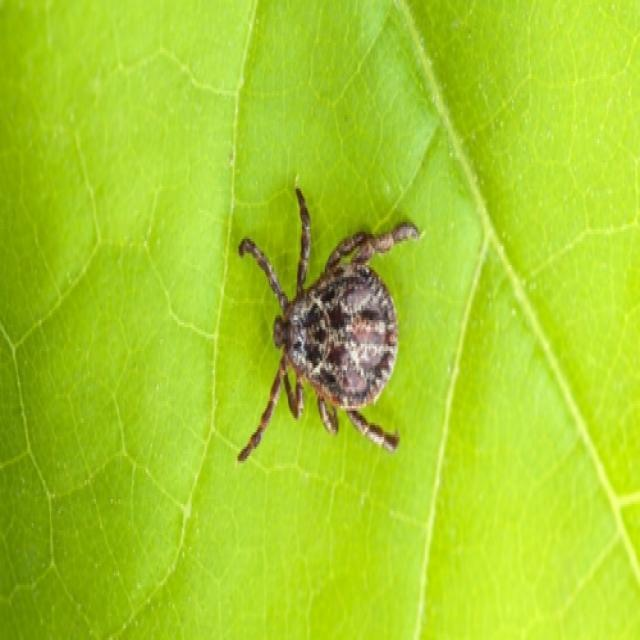Dermacentor Reticulatus-M: (237, 191, 421, 461)
